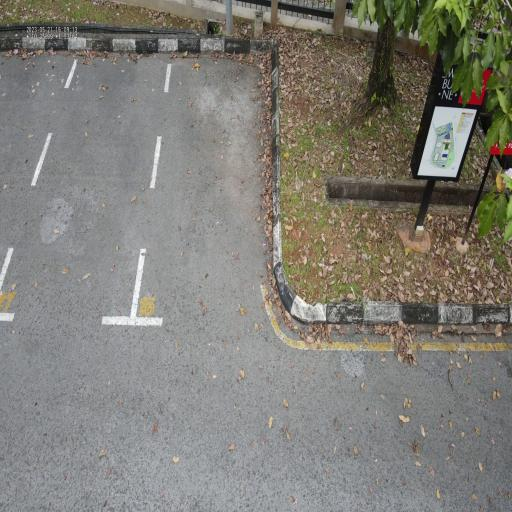Empty: (124, 39, 292, 339)
